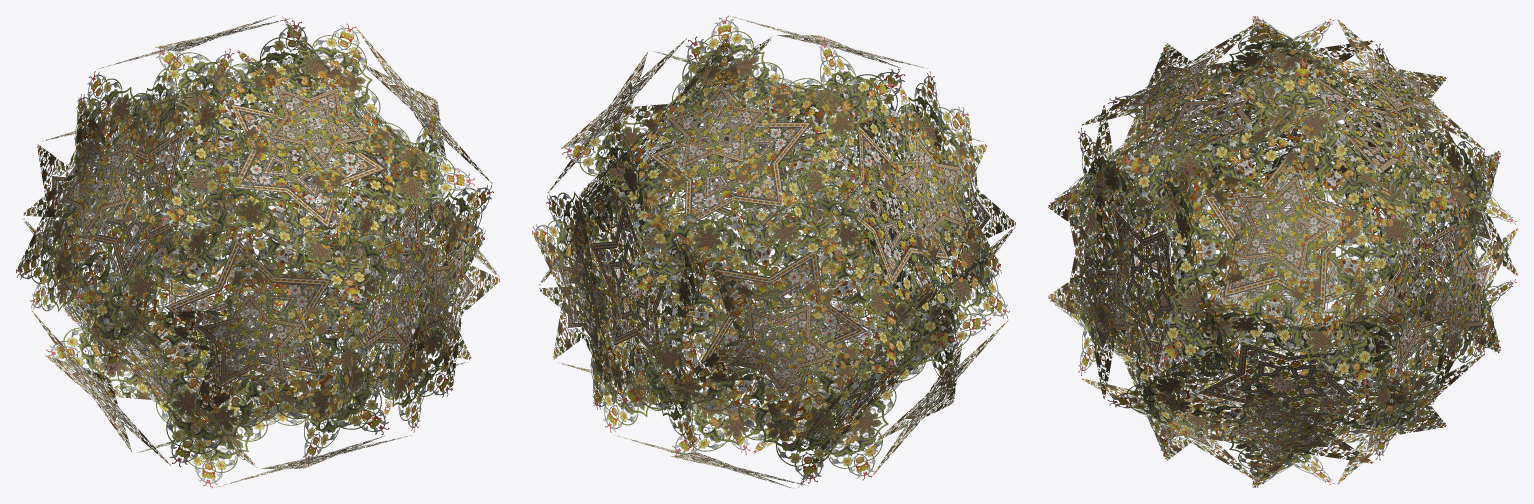
The model's file is 7SnubIcosidodecadodecahedron.gltf.
The picture shows the model from 3 angles, left to right: view 1: azimuth 30°, elevation 25°; view 2: azimuth 150°, elevation 25°; view 3: azimuth 270°, elevation 25°; orthographic projection.
Visible parts, largest first — view 1: SnubIcosidodecadodecahedron8; view 2: SnubIcosidodecadodecahedron8; view 3: SnubIcosidodecadodecahedron8.
Boxes of the visible parts, box(x1,y1,x2,y2) form: SnubIcosidodecadodecahedron8: box(16, 15, 499, 488); SnubIcosidodecadodecahedron8: box(532, 15, 1015, 488); SnubIcosidodecadodecahedron8: box(1048, 16, 1517, 487).
Bounding box in the file's own units: 2.21 × 2.21 × 2.21.
Materials: 1 (1 with a texture image).
